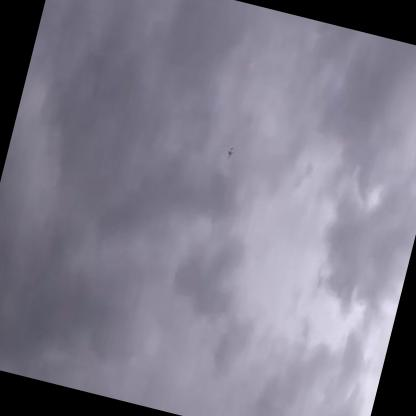plane: (225, 147, 236, 161)
